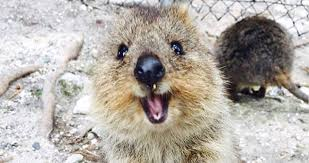quokka: (46, 6, 224, 163)
